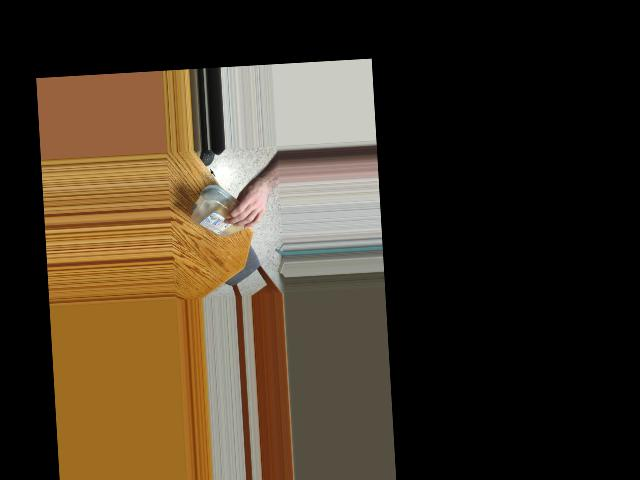cheese: (188, 185, 258, 239)
